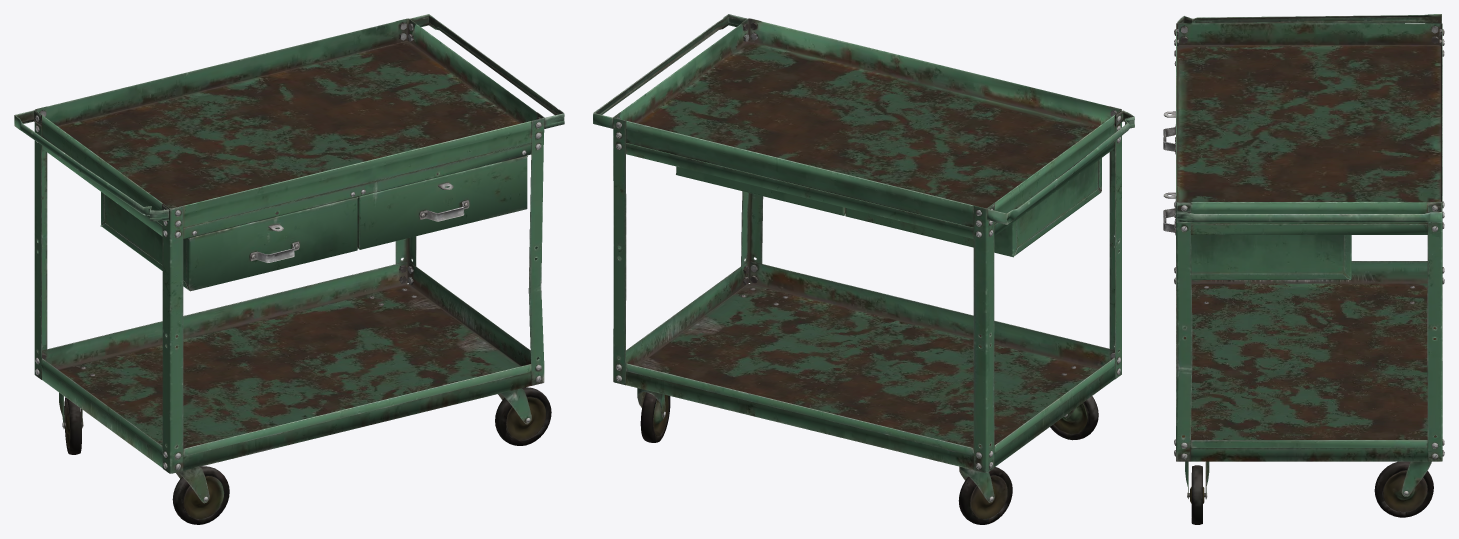
File: ph_tool_cart.glb
3 views of the same model, side by side, from view 1: azimuth 30°, elevation 25°; view 2: azimuth 150°, elevation 25°; view 3: azimuth 270°, elevation 25° (orthographic). The views are drawn at different scales.
Parts seen in each view (by area): view 1: tool_cart; view 2: tool_cart; view 3: tool_cart.
Boxes of the visible parts, x1=… form: tool_cart: x1=14, y1=14, x2=564, y2=524; tool_cart: x1=593, y1=14, x2=1134, y2=524; tool_cart: x1=1163, y1=14, x2=1444, y2=524.
Bounding box in the file's own units: 1.27 × 0.9646 × 0.7536.
Materials: 1 (1 with a texture image).
